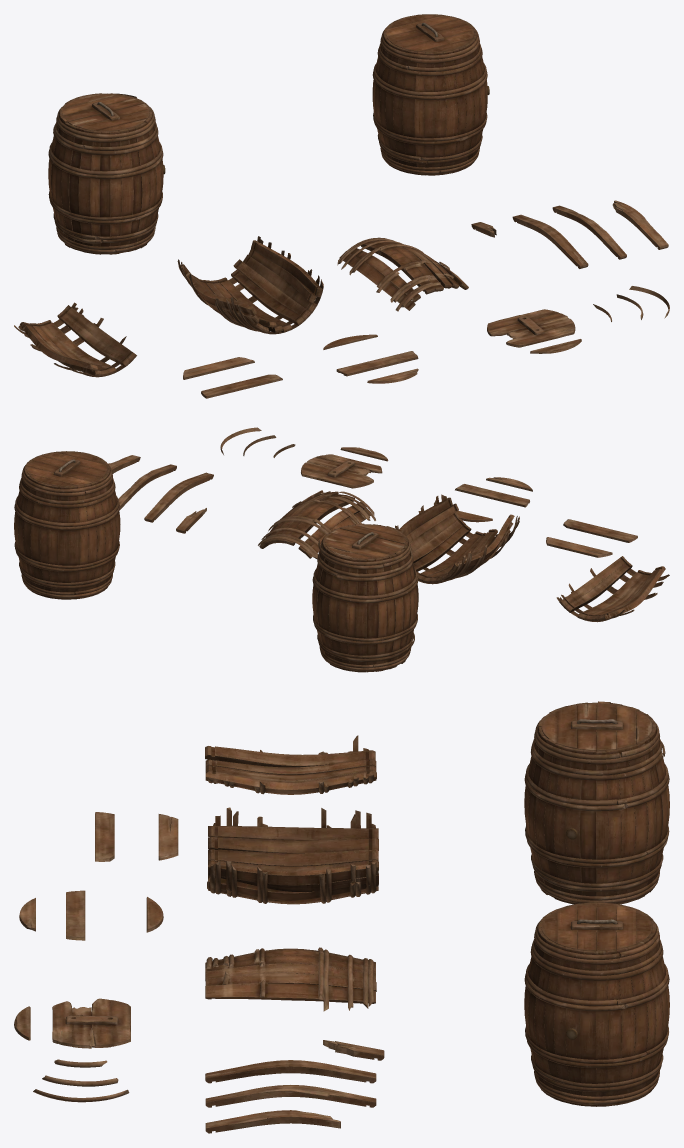
The model's file is wooden_barrels_01.gltf.
3 views of the same model, one above another, from view 1: azimuth 30°, elevation 25°; view 2: azimuth 150°, elevation 25°; view 3: azimuth 270°, elevation 25° (orthographic). The views are drawn at different scales.
Parts seen in each view (by area): view 1: wooden_barrels_01_barrel02, wooden_barrels_01_barrel01, wooden_barrels_01_piece01, wooden_barrels_01_piece03, wooden_barrels_01_piece02, wooden_barrels_01_piece08, wooden_barrels_01_piece04, wooden_barrels_01_piece05, wooden_barrels_01_piece06, wooden_barrels_01_piece11, wooden_barrels_01_piece14, wooden_barrels_01_piece13; view 2: wooden_barrels_01_barrel02, wooden_barrels_01_barrel01, wooden_barrels_01_piece01, wooden_barrels_01_piece03, wooden_barrels_01_piece02, wooden_barrels_01_piece08, wooden_barrels_01_piece04, wooden_barrels_01_piece14, wooden_barrels_01_piece11, wooden_barrels_01_piece05, wooden_barrels_01_piece13; view 3: wooden_barrels_01_barrel01, wooden_barrels_01_barrel02, wooden_barrels_01_piece01, wooden_barrels_01_piece03, wooden_barrels_01_piece02, wooden_barrels_01_piece08, wooden_barrels_01_piece04, wooden_barrels_01_piece05, wooden_barrels_01_piece06, wooden_barrels_01_piece11, wooden_barrels_01_piece14, wooden_barrels_01_piece13 (+1 smaller).
Part boxes in pixels (x1,y1,x2,y2): wooden_barrels_01_barrel02: (48,93,165,254); wooden_barrels_01_barrel01: (372,14,489,175); wooden_barrels_01_piece01: (177,236,323,334); wooden_barrels_01_piece03: (337,237,468,311); wooden_barrels_01_piece02: (14,302,136,377); wooden_barrels_01_piece08: (487,309,575,347); wooden_barrels_01_piece04: (512,214,588,268); wooden_barrels_01_piece05: (552,205,626,259); wooden_barrels_01_piece06: (612,200,668,249); wooden_barrels_01_piece11: (336,351,418,376); wooden_barrels_01_piece14: (201,374,282,398); wooden_barrels_01_piece13: (183,357,254,379); wooden_barrels_01_barrel02: (312,523,418,672); wooden_barrels_01_barrel01: (14,451,120,599); wooden_barrels_01_piece01: (395,494,519,584); wooden_barrels_01_piece03: (258,490,375,558); wooden_barrels_01_piece02: (556,556,669,622); wooden_barrels_01_piece08: (301,454,382,488); wooden_barrels_01_piece04: (144,472,213,522); wooden_barrels_01_piece14: (563,519,637,542); wooden_barrels_01_piece11: (455,484,529,507); wooden_barrels_01_piece05: (118,464,176,510); wooden_barrels_01_piece13: (546,537,612,557); wooden_barrels_01_barrel01: (524,902,669,1106); wooden_barrels_01_barrel02: (524,701,669,904); wooden_barrels_01_piece01: (207,807,378,904); wooden_barrels_01_piece03: (205,947,376,1011); wooden_barrels_01_piece02: (205,735,376,794); wooden_barrels_01_piece08: (52,998,130,1048); wooden_barrels_01_piece04: (205,1060,376,1083); wooden_barrels_01_piece05: (205,1085,376,1107); wooden_barrels_01_piece06: (205,1110,340,1133); wooden_barrels_01_piece11: (66,890,85,940); wooden_barrels_01_piece14: (95,812,114,861); wooden_barrels_01_piece13: (158,814,178,860).
Bounding box in the file's own units: 4.44 × 0.9567 × 3.34.
Materials: 3 (3 with a texture image).
